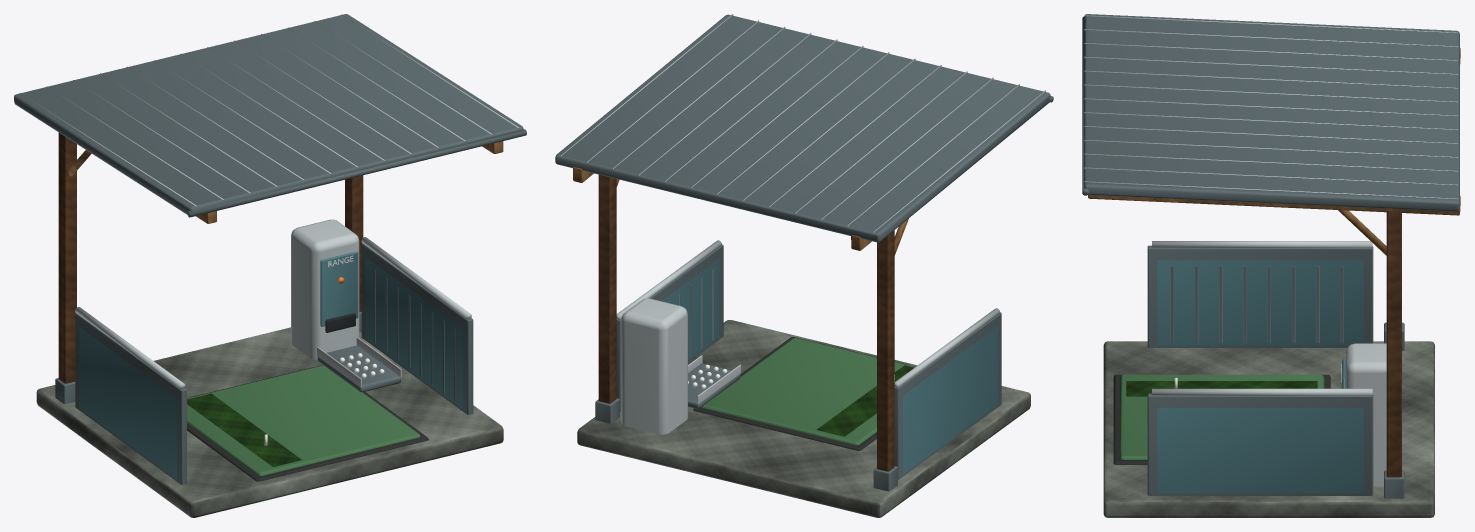
Rendered from hitting-bay.glb.
3 renders of one model, left to right at view 1: azimuth 30°, elevation 25°; view 2: azimuth 150°, elevation 25°; view 3: azimuth 270°, elevation 25°, orthographic. The views are drawn at different scales.
Visible parts, largest first — view 1: PostShoe, Deck, DividerInfill, TeeMat, DividerRail, RoofPost, HittingStrip, MatEdge, Rafter; view 2: PostShoe, Deck, DividerRail, TeeMat, DividerInfill, RoofPost, HittingStrip, MatEdge, Rafter; view 3: PostShoe, DividerInfill, Deck, DividerRail, RoofPost, TeeMat, Rafter, HittingStrip, MatEdge.
Part boxes in pixels (<box>): PostShoe: <box>14,14,526,484</box>; Deck: <box>36,327,503,517</box>; DividerInfill: <box>79,251,463,479</box>; TeeMat: <box>187,365,420,475</box>; DividerRail: <box>19,14,518,388</box>; RoofPost: <box>58,132,363,383</box>; HittingStrip: <box>187,393,301,466</box>; MatEdge: <box>187,365,428,481</box>; Rafter: <box>68,141,503,223</box>; PostShoe: <box>555,14,1053,491</box>; Deck: <box>577,320,1030,517</box>; DividerRail: <box>561,14,1045,434</box>; TeeMat: <box>701,338,914,445</box>; DividerInfill: <box>662,259,997,474</box>; RoofPost: <box>598,174,894,471</box>; HittingStrip: <box>817,365,913,436</box>; MatEdge: <box>693,337,915,450</box>; Rafter: <box>573,167,908,255</box>; PostShoe: <box>1082,14,1459,498</box>; DividerInfill: <box>1157,260,1363,493</box>; Deck: <box>1103,341,1434,517</box>; DividerRail: <box>1084,15,1457,486</box>; RoofPost: <box>1386,209,1401,477</box>; TeeMat: <box>1120,374,1324,459</box>; Rafter: <box>1088,48,1460,255</box>; HittingStrip: <box>1126,381,1317,396</box>; MatEdge: <box>1113,374,1330,464</box>.
Size of the model in its own units: 3.22 by 2.95 by 2.97.
13 materials, 4 textured.
